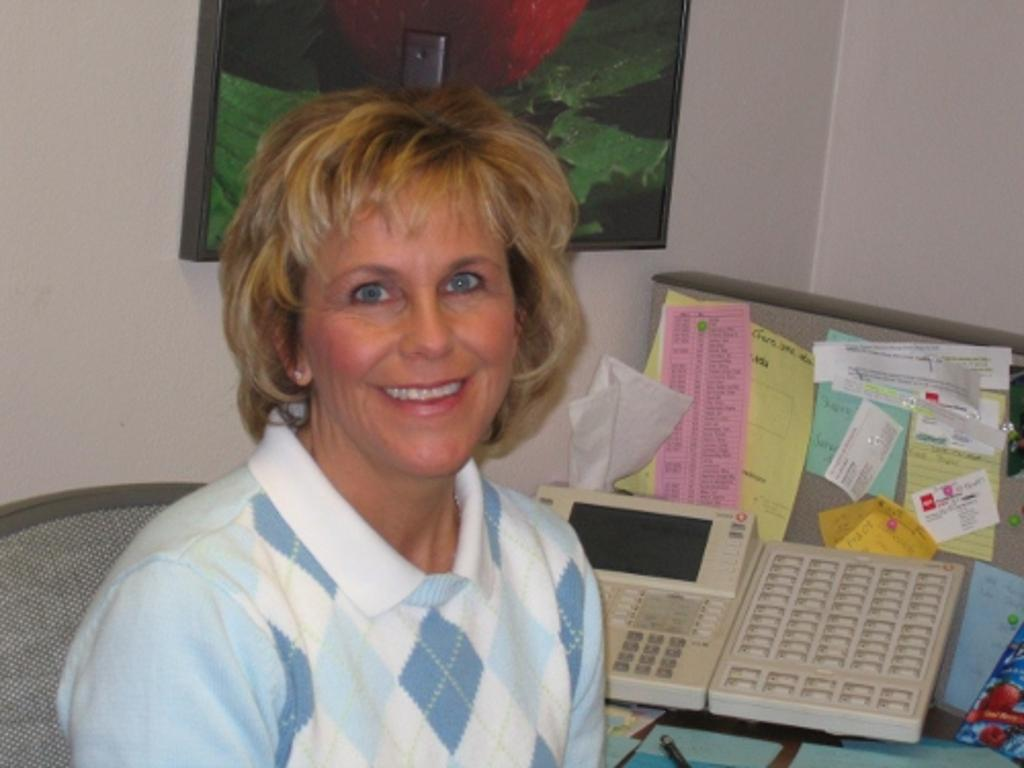face: (314, 180, 508, 450)
